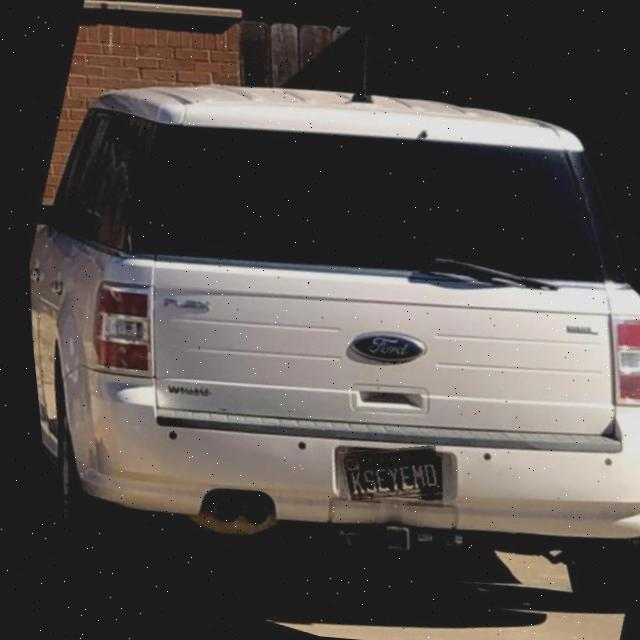LicensePlate: (330, 445, 433, 500)
